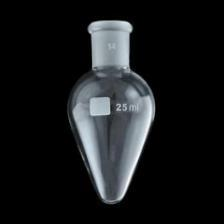Pear shaped flask: (66, 25, 157, 206)
